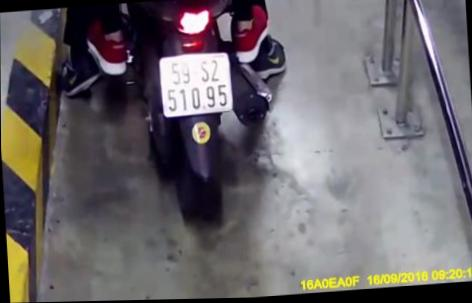LP: (156, 51, 236, 119)
